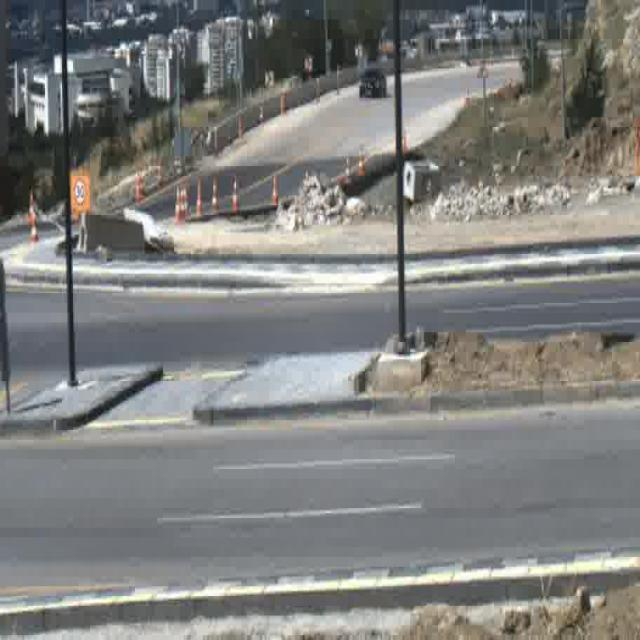Car: (359, 67, 386, 97)
